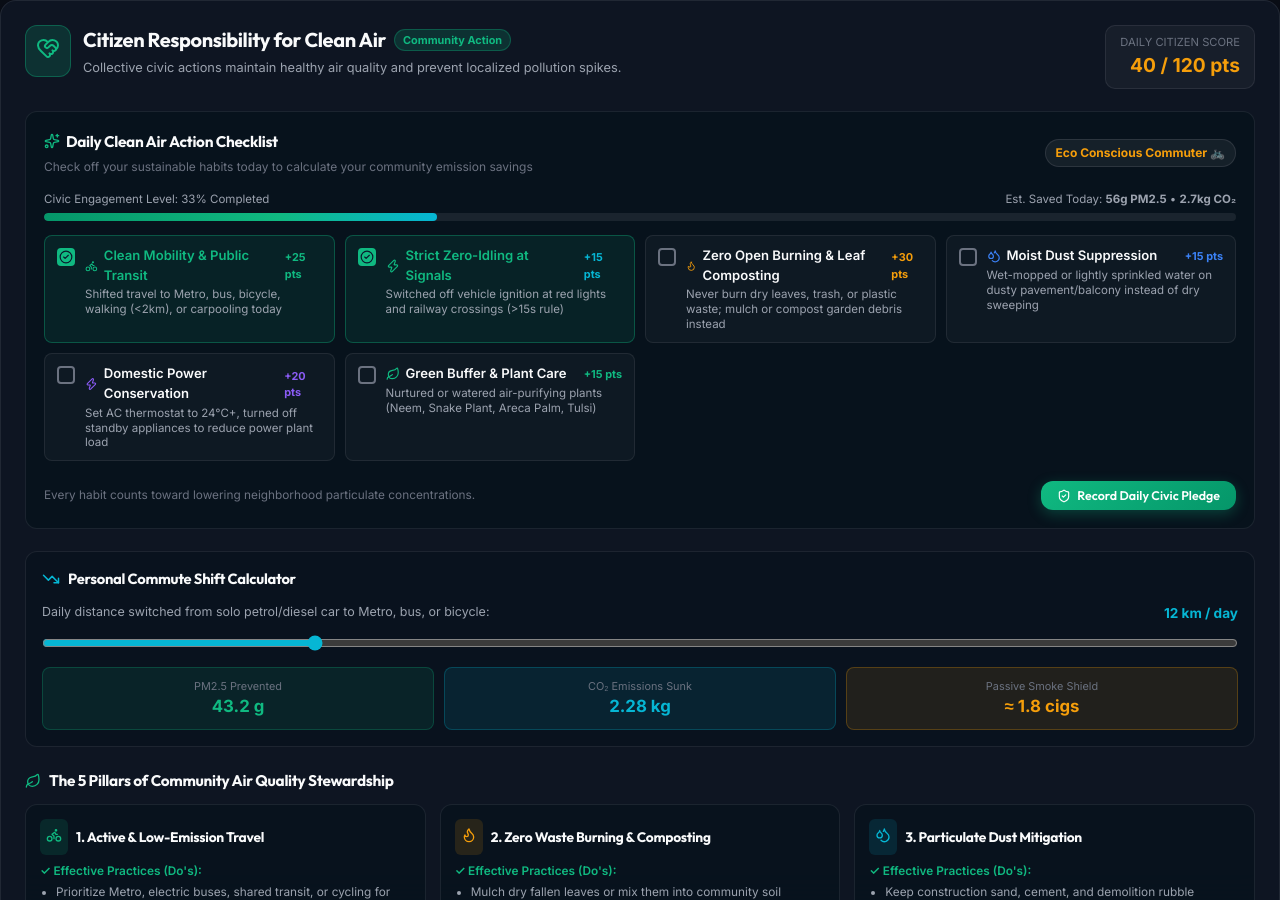
Test: CitizenResponsibilityCard Component › updates commute shift savings when slider changes
Expected: the text "12 km / day" is shown, [1164,602,1238,623]
Set the slider to "25" at x=628, y=643, box [42,635,1238,651]
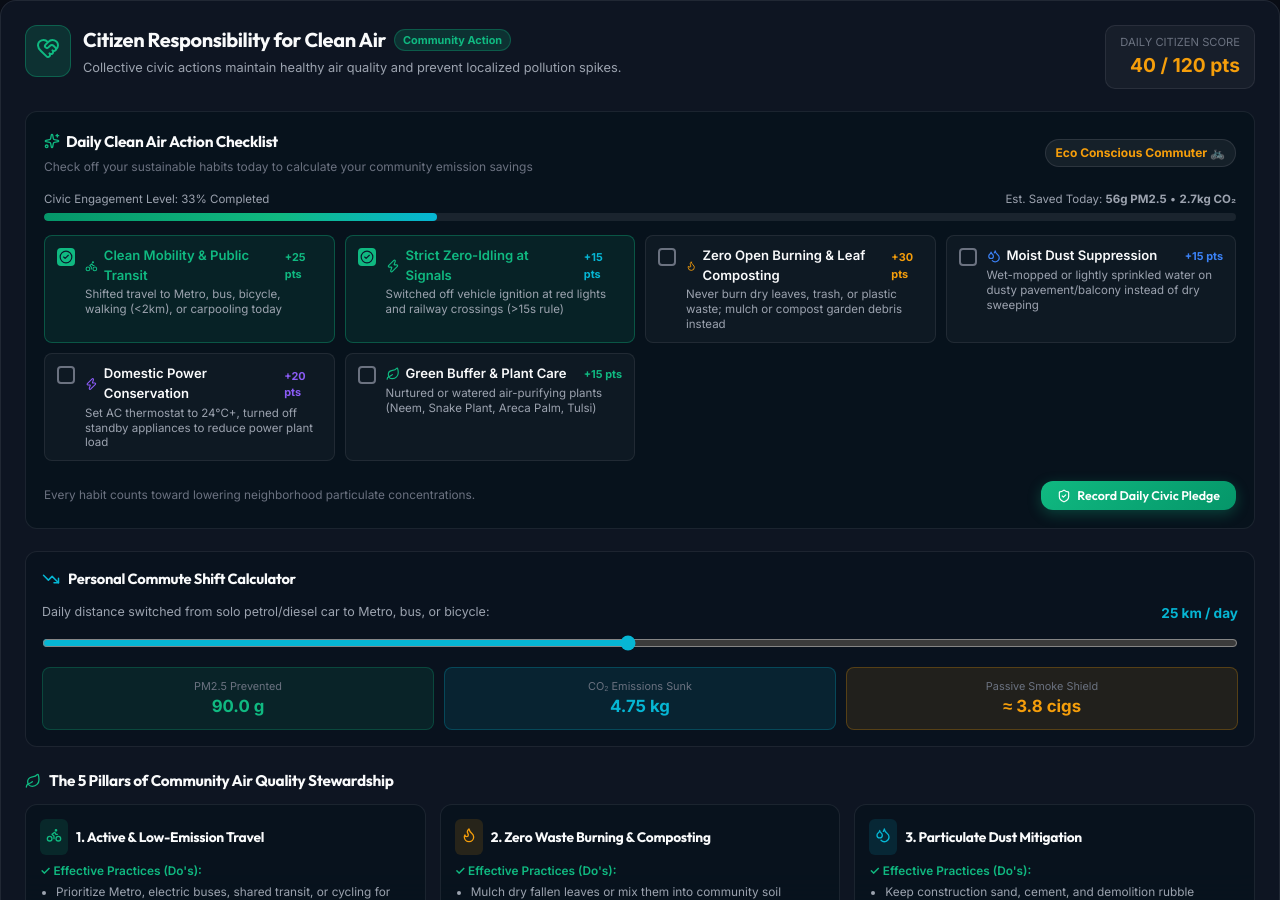
Now the text "25 km / day" is shown, box [1161,602,1238,623]
Now the text "90.0 g" is shown, box [212,696,264,716]
